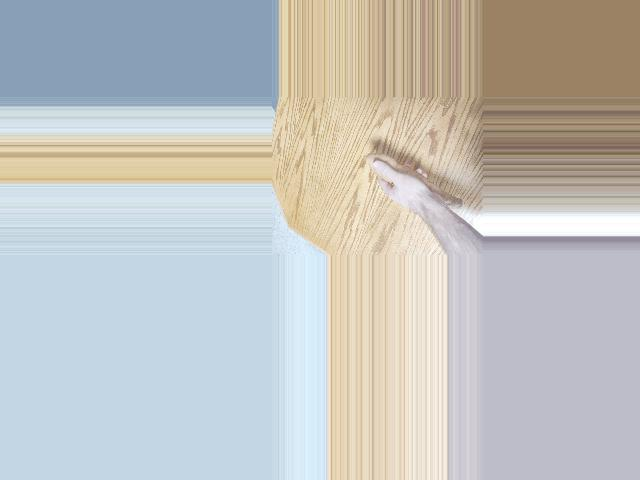sweet_potato: (364, 151, 479, 210)
